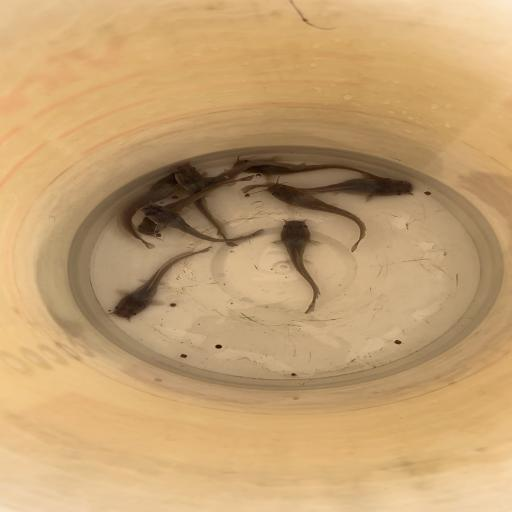lele: (105, 246, 214, 320), (258, 184, 370, 251), (126, 175, 254, 233), (270, 216, 328, 316), (172, 164, 237, 246), (133, 202, 265, 242), (116, 173, 179, 249), (245, 175, 424, 198), (183, 162, 307, 192), (222, 156, 386, 177)
